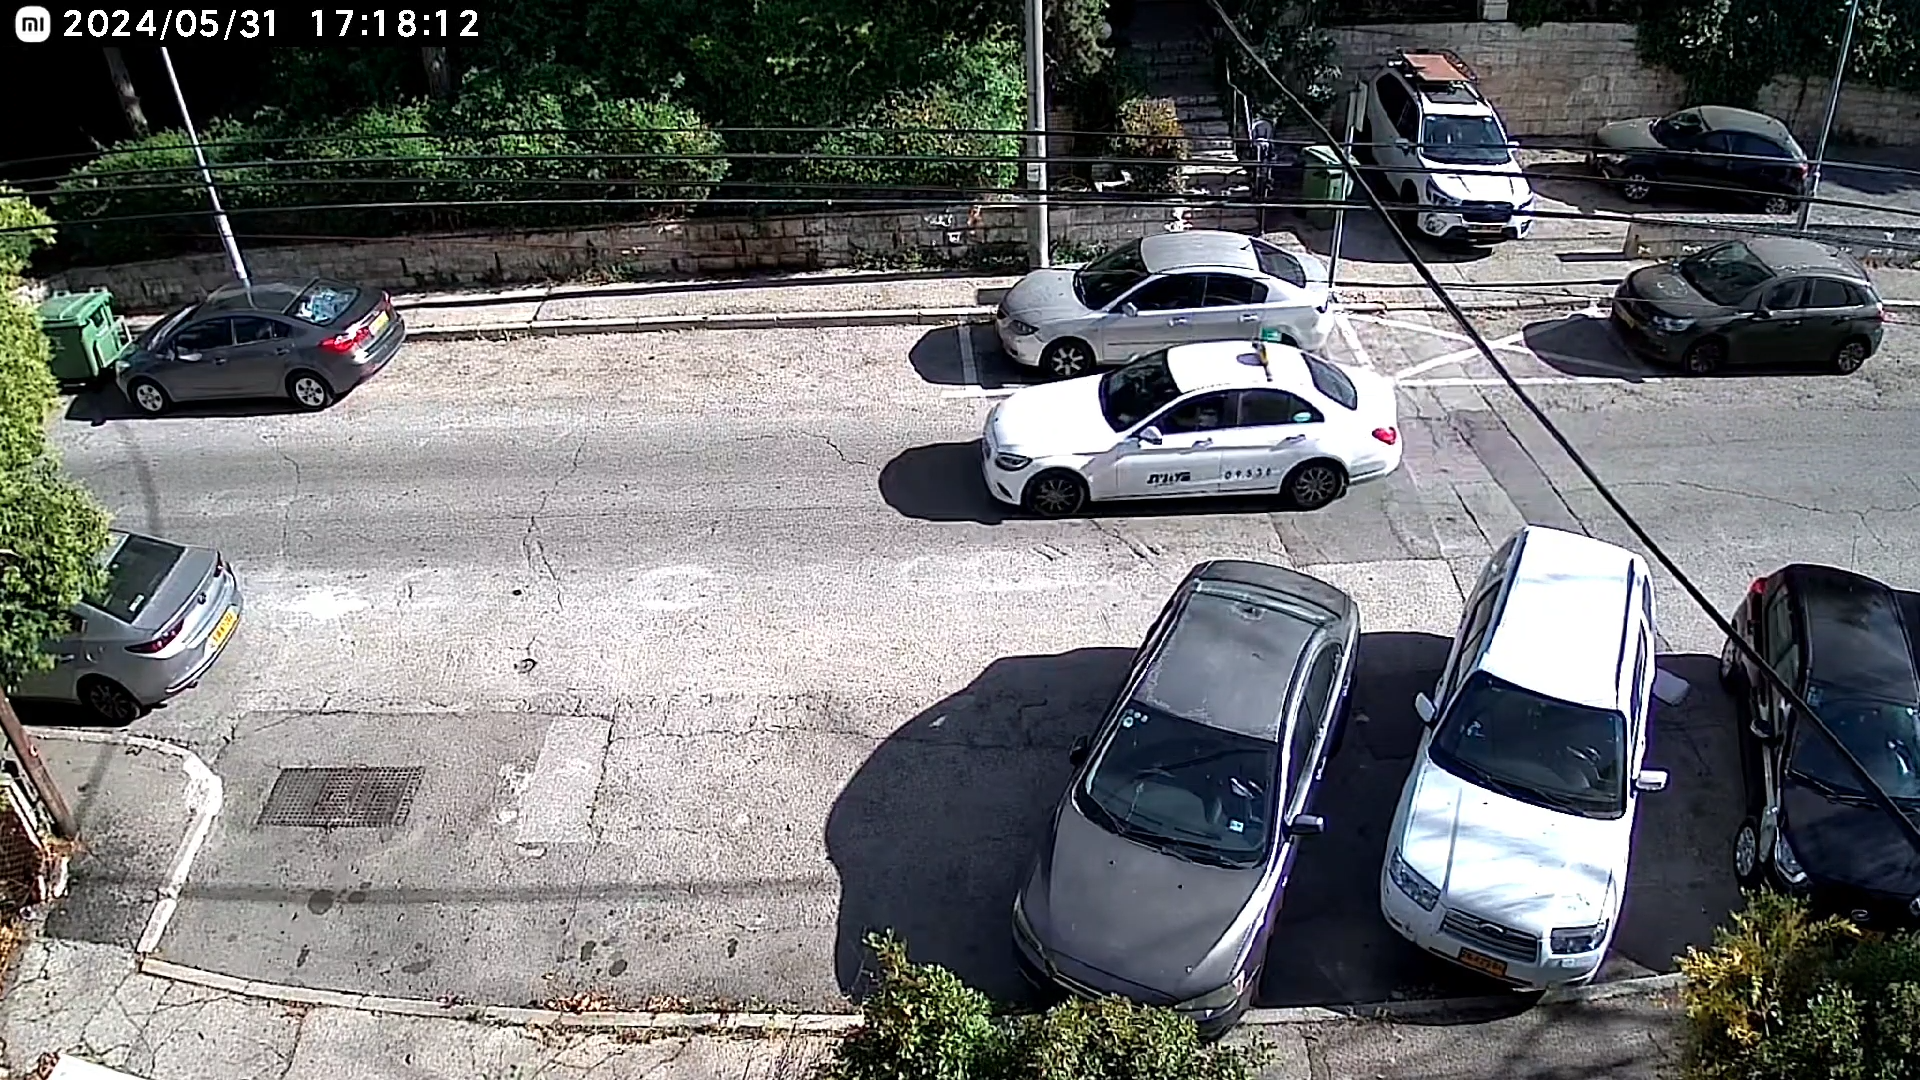moving car: (993, 723, 1509, 978)
